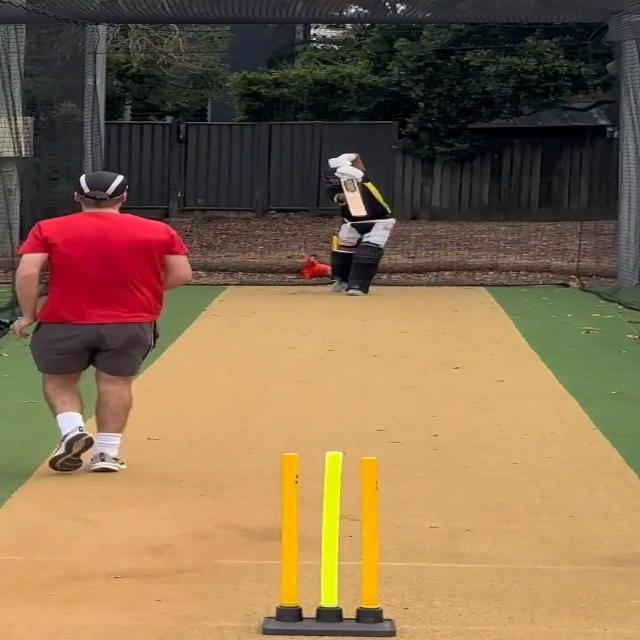stump: (258, 448, 403, 638)
